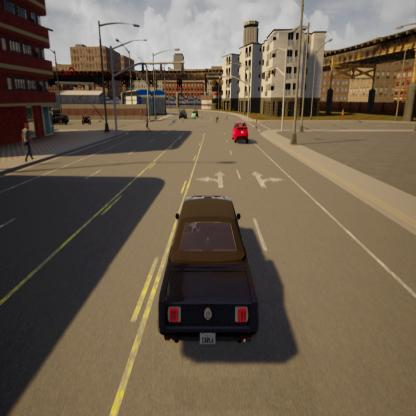Cars: (156, 192, 262, 358), (232, 118, 249, 147)
Pedestrian: (22, 118, 34, 165)
